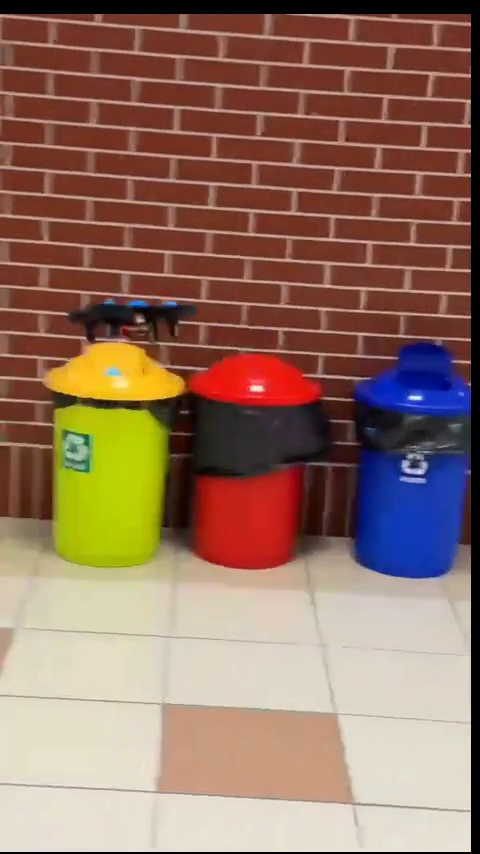drone: (63, 293, 195, 338)
